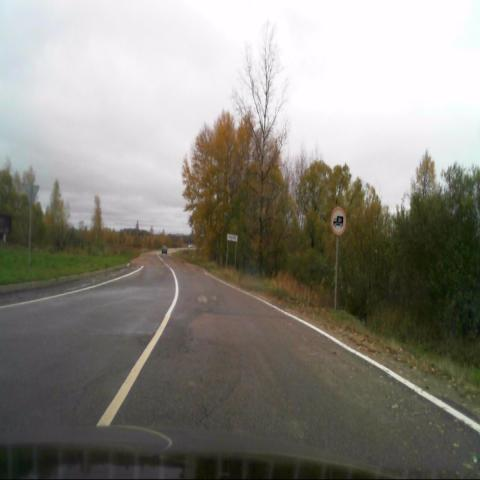3_4: (330, 207, 346, 236)
